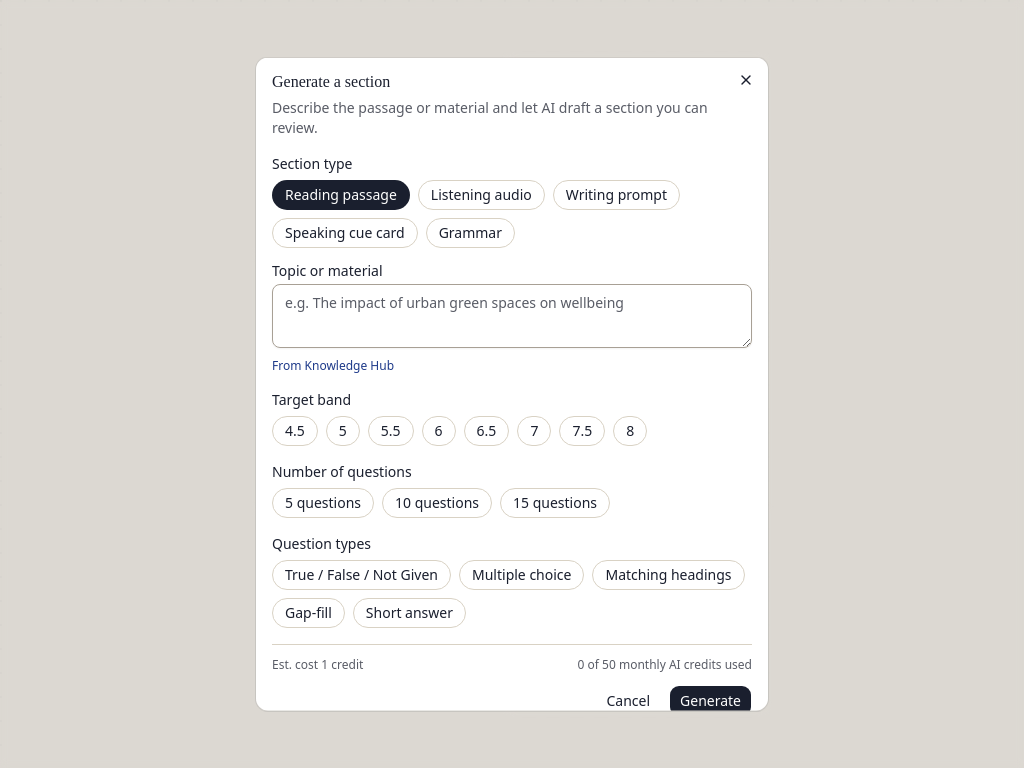
Test: AIGenerateDialog — failure + stuck surfaces (AC4, AC5) › invalid_ai_response steers to adjust-the-prompt, not a bare retry
The width and height of the screenshot is (1024, 768).
Type "urban green spaces" into the text box with test id "ai-topic-input" at (512, 316), box 272,284 -> 752,348
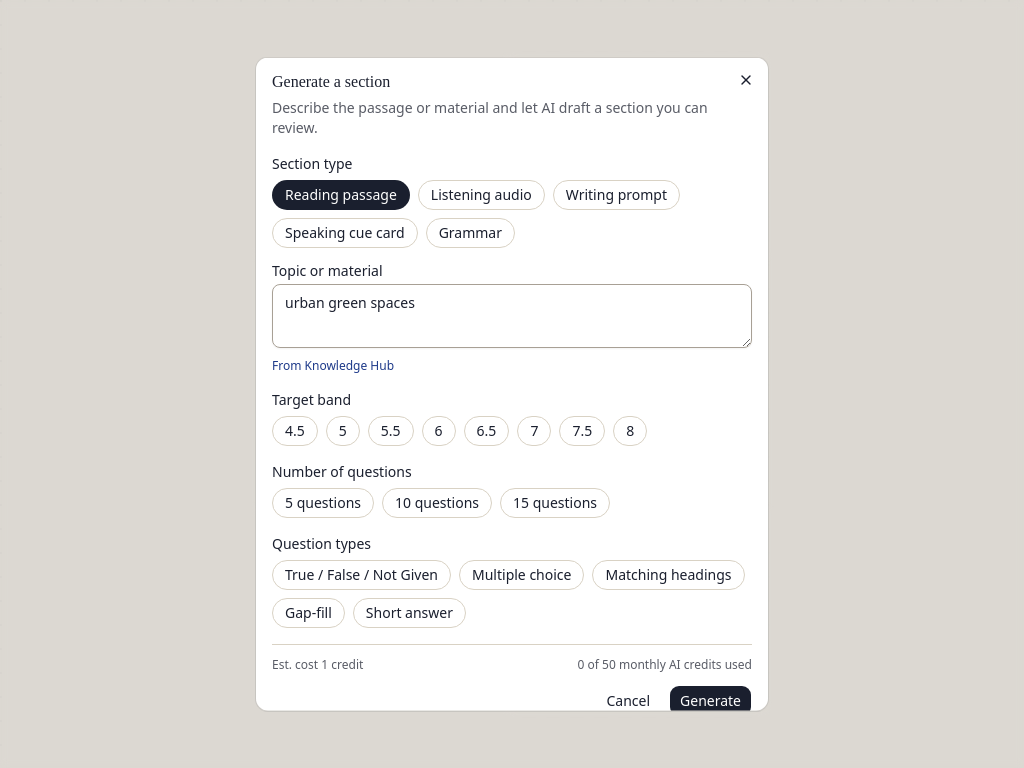
Click the button with test id "ai-generate-submit" at (710, 701), box 669,685 -> 752,717
Wait 2011 ms
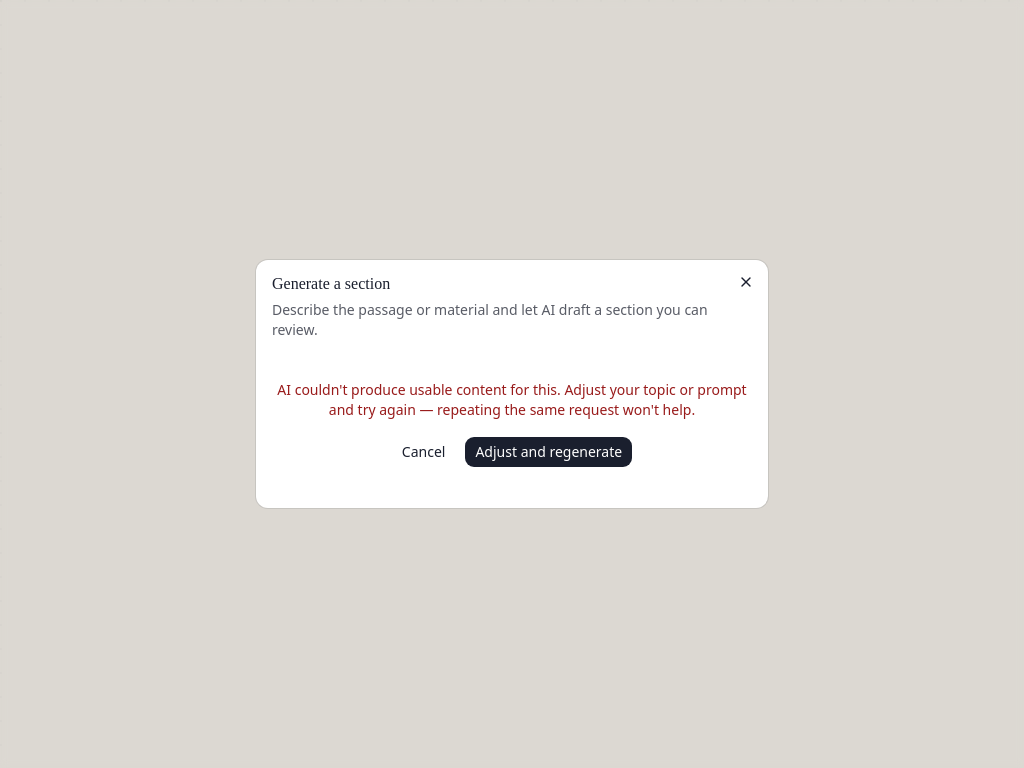
Expected: the element with test id "ai-failed" shows "AI couldn't produce usable content for this. Adjust your topic or prompt and try again — repeating the same request won't help.", 277,380 -> 747,419
Expected: the button with test id "ai-failed-adjust" is shown, 464,436 -> 633,468
